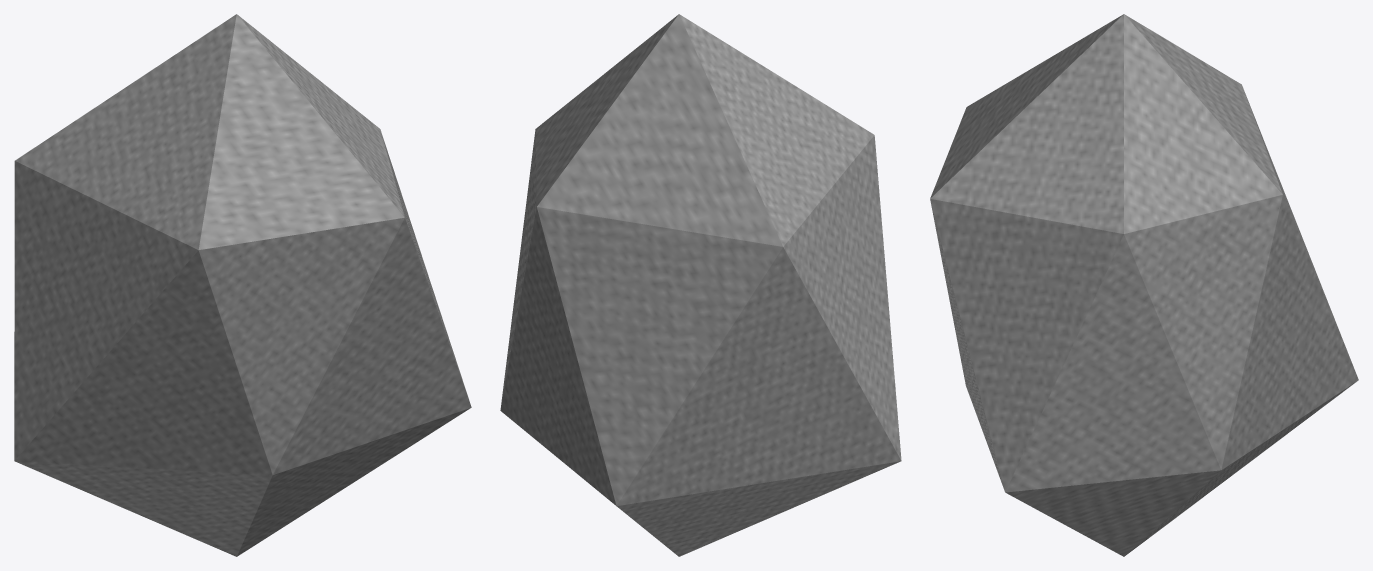
Rendered from effect-shard.glb.
3 renders of one model, left to right at view 1: azimuth 30°, elevation 25°; view 2: azimuth 150°, elevation 25°; view 3: azimuth 270°, elevation 25°, orthographic.
Parts seen in each view (by area): view 1: fractured-debris; view 2: fractured-debris; view 3: fractured-debris.
Part boxes in pixels (x1=…): fractured-debris: x1=14, y1=14, x2=471, y2=556; fractured-debris: x1=500, y1=14, x2=901, y2=556; fractured-debris: x1=930, y1=14, x2=1358, y2=556.
Bounding box in the file's own units: 0.7671 × 1 × 0.7157.
Materials: 1 (1 with a texture image).
